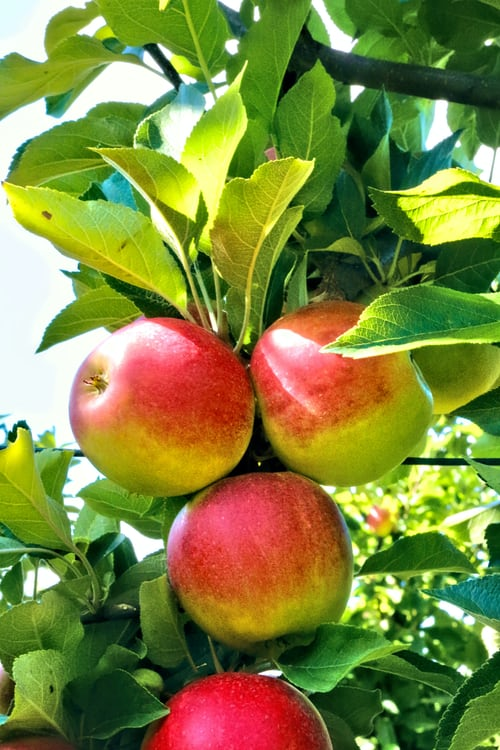apple: (159, 466, 357, 649), (251, 289, 436, 483), (64, 315, 256, 495), (134, 667, 330, 750)
